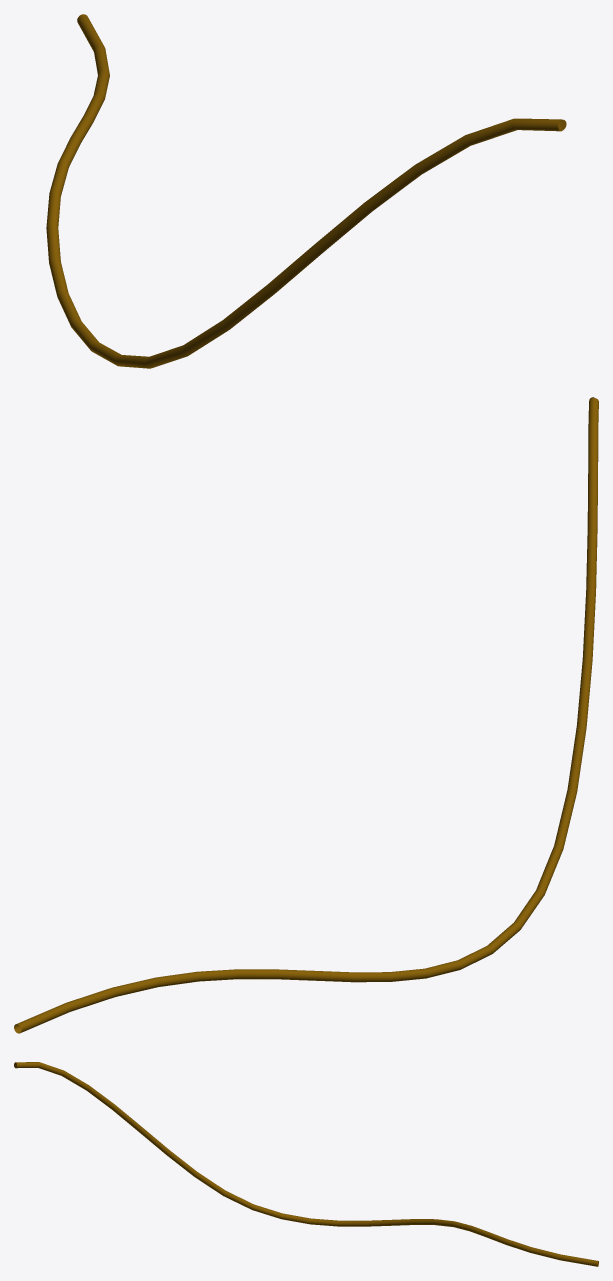
File: rope.fbx
3 renders of one model, top to bottom at view 1: azimuth 30°, elevation 25°; view 2: azimuth 150°, elevation 25°; view 3: azimuth 270°, elevation 25°, orthographic. The views are drawn at different scales.
Visible parts, largest first — view 1: pCylinder1; view 2: pCylinder1; view 3: pCylinder1.
Boxes of the visible parts, box(x1,y1,x2,y2) form: pCylinder1: box(46, 14, 566, 368); pCylinder1: box(14, 397, 598, 1033); pCylinder1: box(14, 1062, 598, 1266).
Bounding box in the file's own units: 4.5 × 6.04 × 15.75.
